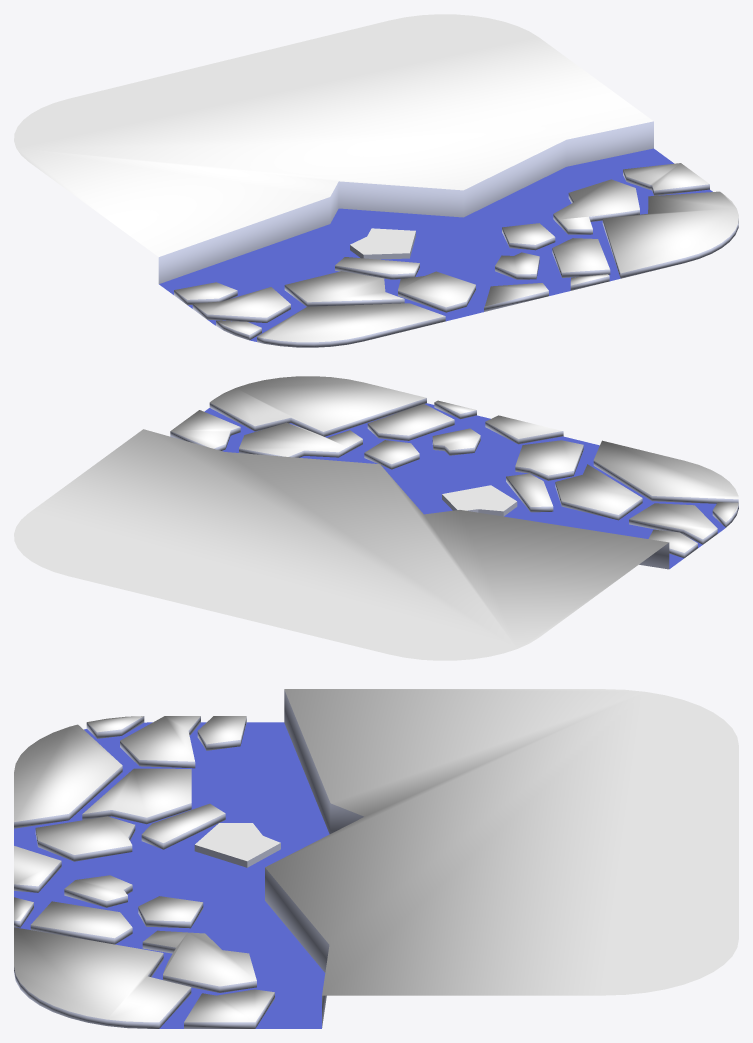
The model's file is EnvIce.fbx.
The picture shows the model from 3 angles, top to bottom: view 1: azimuth 30°, elevation 25°; view 2: azimuth 150°, elevation 25°; view 3: azimuth 270°, elevation 25°; orthographic projection. The views are drawn at different scales.
Visible parts, largest first — view 1: Ice, ShevingIce, Water, FloatingIce; view 2: Ice, ShevingIce, Water, FloatingIce; view 3: Ice, ShevingIce, Water, FloatingIce.
Boxes of the visible parts, x1,y1,x2,y2 form: Ice: (14,14,653,283); ShevingIce: (174,163,738,347); Water: (159,148,712,341); FloatingIce: (350,228,415,259); Ice: (14,429,669,660); ShevingIce: (170,376,738,558); Water: (204,403,725,568); FloatingIce: (442,485,517,516); Ice: (265,689,738,1027); ShevingIce: (14,716,274,1028); Water: (14,722,329,1028); FloatingIce: (194,823,280,867).
Bounding box in the file's own units: 0.19 × 0.00964 × 0.19.
